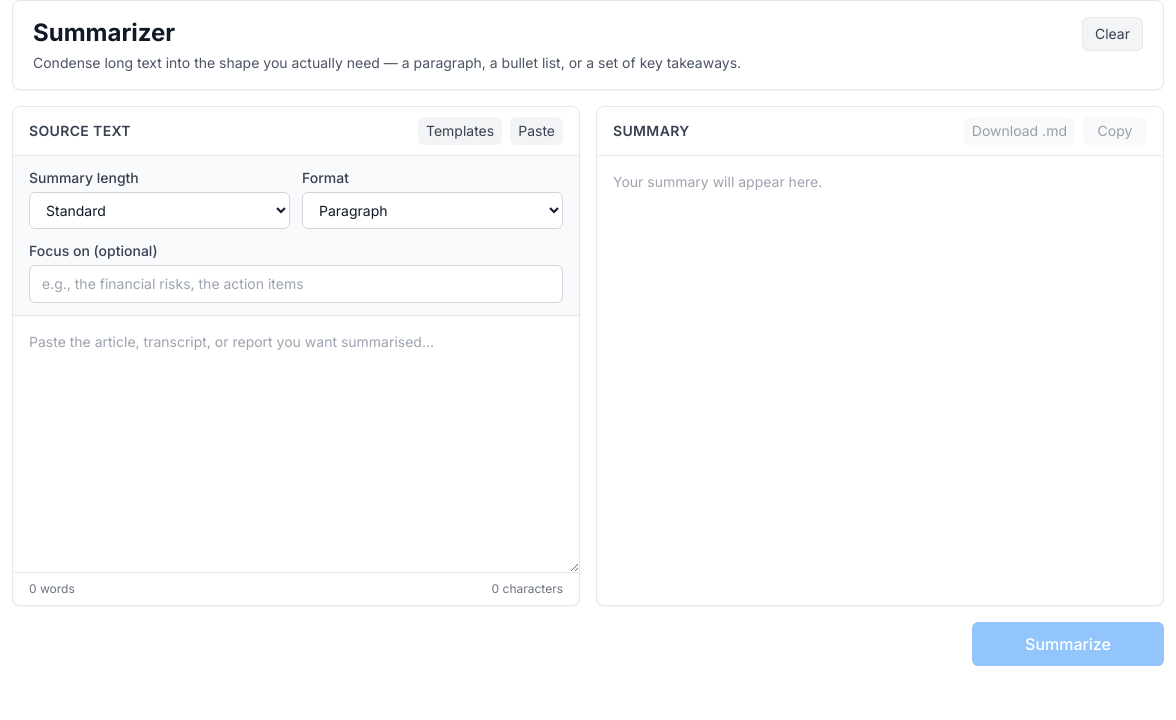
Test: current context from every text page › Summarizer sends its current controls and source to its own endpoint
Replace the text in the text box with "The launch is Monday. The budget is 50." at (296, 444), box 13,316 -> 579,572
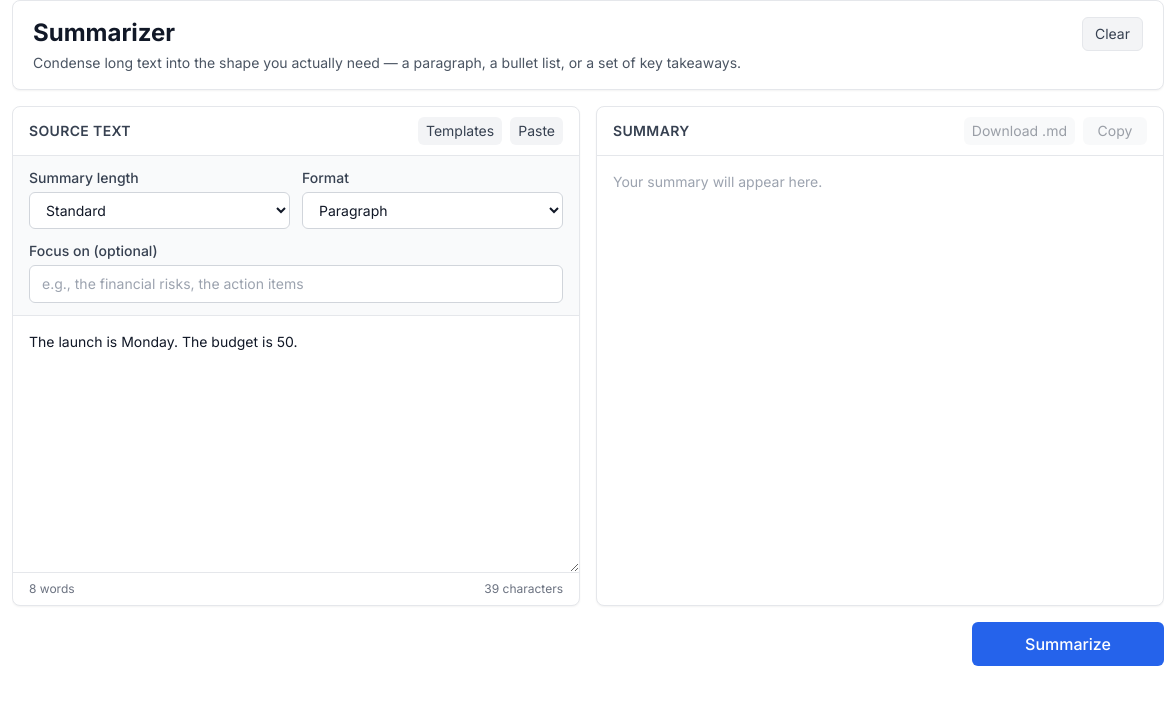
Select "Brief" in the dropdown with id "summary-length" at (160, 210), box 29,192 -> 290,229
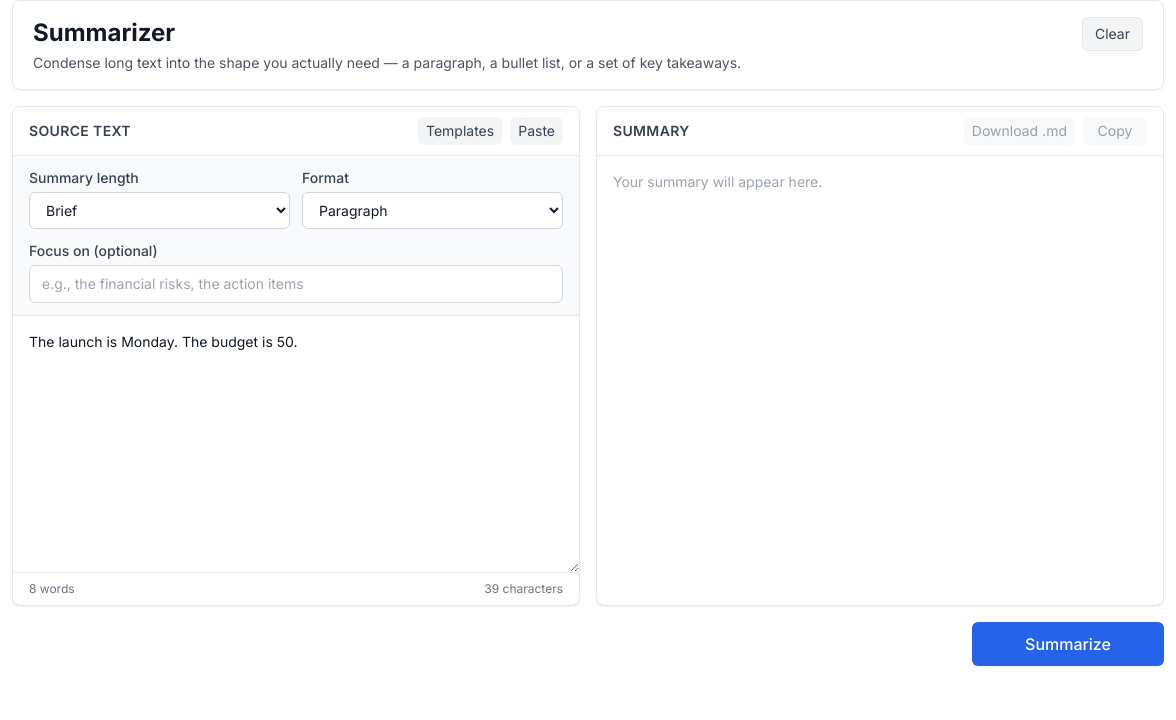
Select "Bullet points" in the dropdown with id "summary-format" at (432, 210), box 302,192 -> 563,229
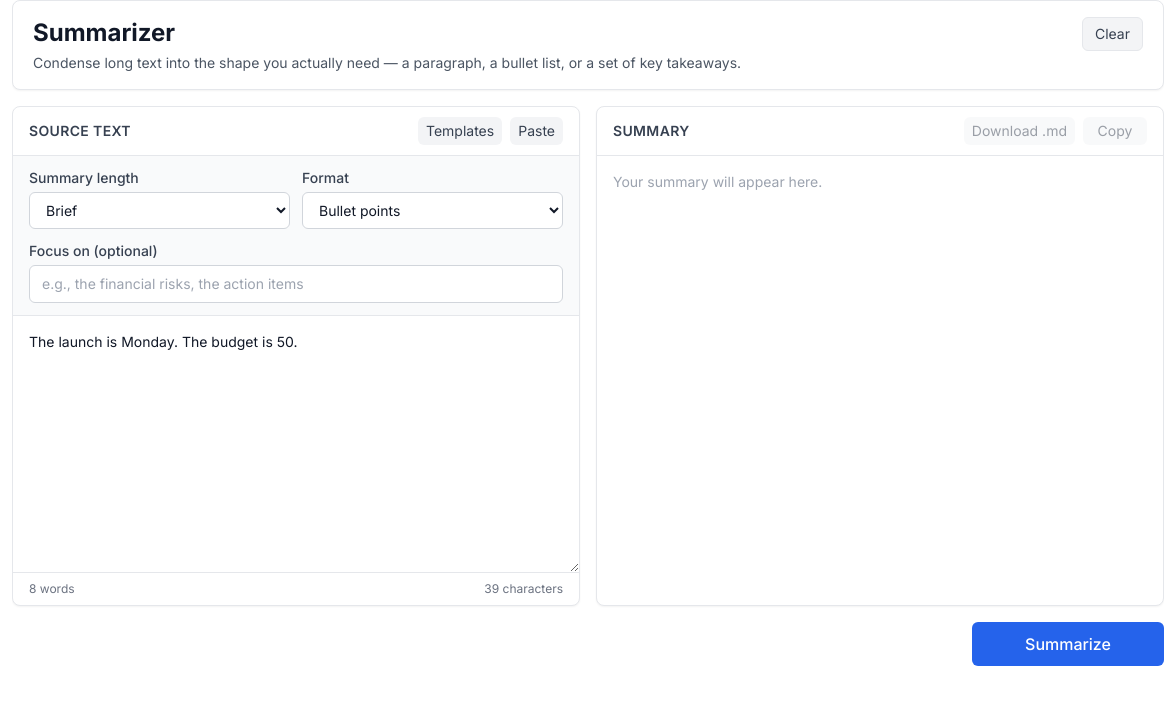
Type "budget" into the field with id "summary-focus" at (296, 284), box 29,265 -> 563,303
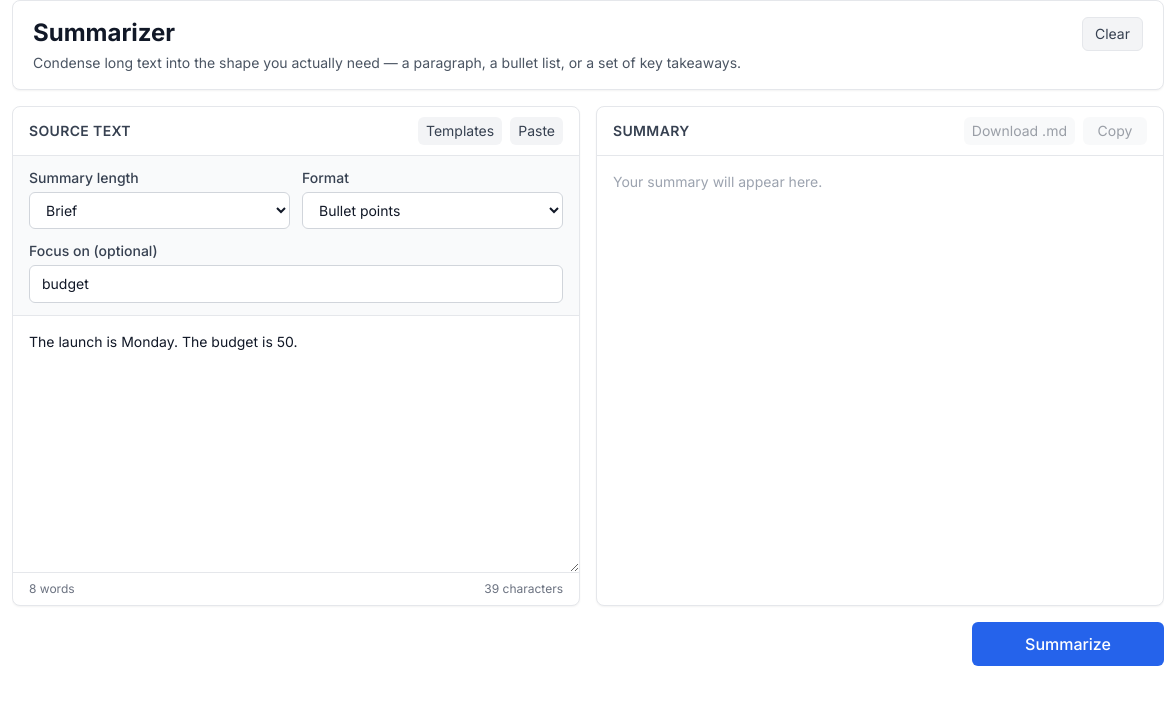
Click the button "Summarize" at (1068, 644), box 972,622 -> 1164,666
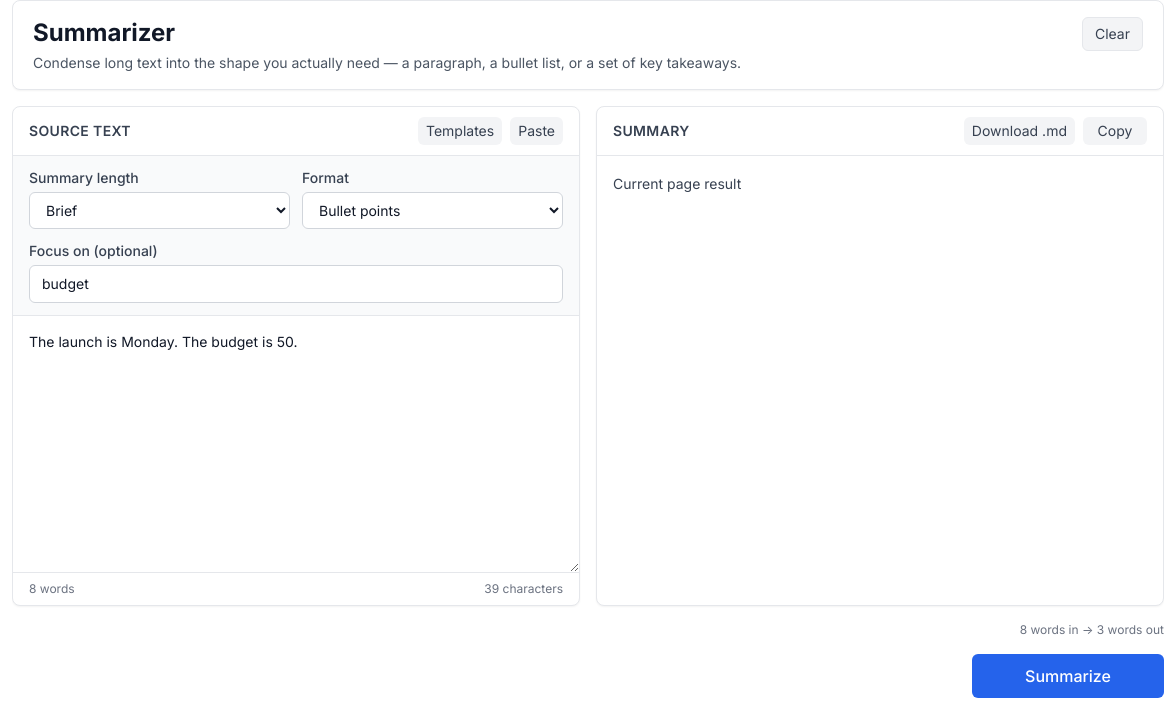
Expected: the text "Current page result" is shown, 613,175 -> 741,192
